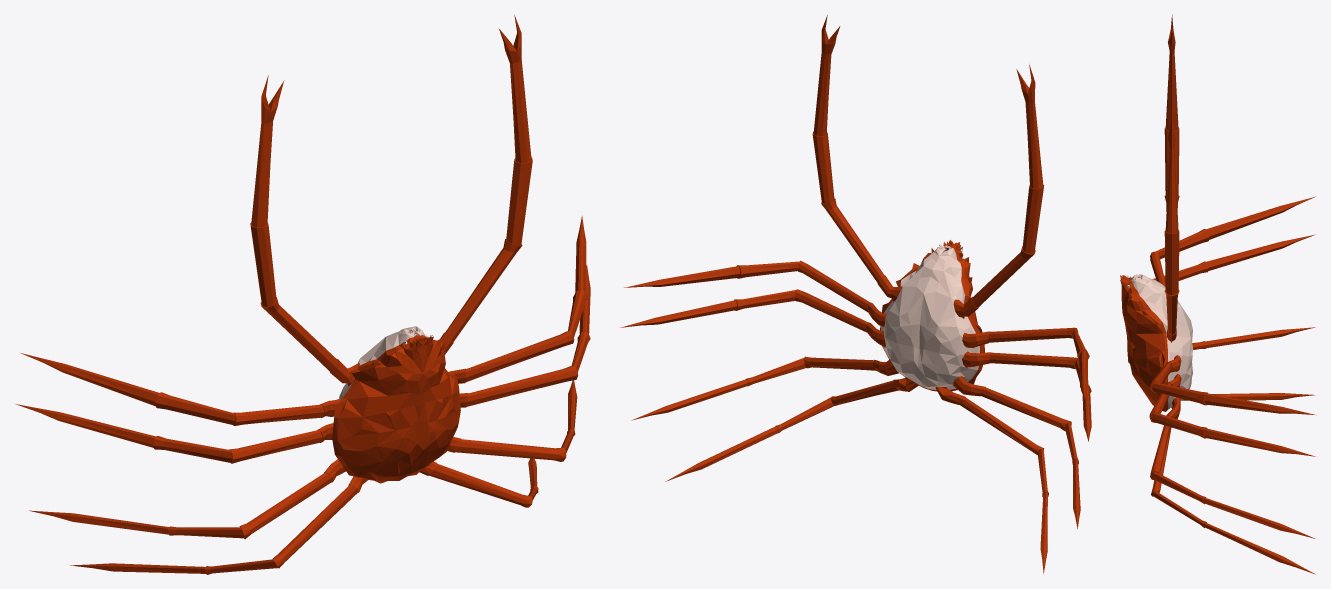
Rendered from SpiderCrab_v4.glb.
3 renders of one model, left to right at view 1: azimuth 30°, elevation 25°; view 2: azimuth 150°, elevation 25°; view 3: azimuth 270°, elevation 25°, orthographic. The views are drawn at different scales.
Parts seen in each view (by area): view 1: SpiderCrab_v4; view 2: SpiderCrab_v4; view 3: SpiderCrab_v4.
Boxes of the visible parts, left/top/right/bottom form: SpiderCrab_v4: left=15, top=15, right=590, bottom=574; SpiderCrab_v4: left=620, top=15, right=1091, bottom=573; SpiderCrab_v4: left=1120, top=14, right=1316, bottom=574.
Bounding box in the file's own units: 2.94 × 2.6 × 1.1.
1 material, 1 textured.
